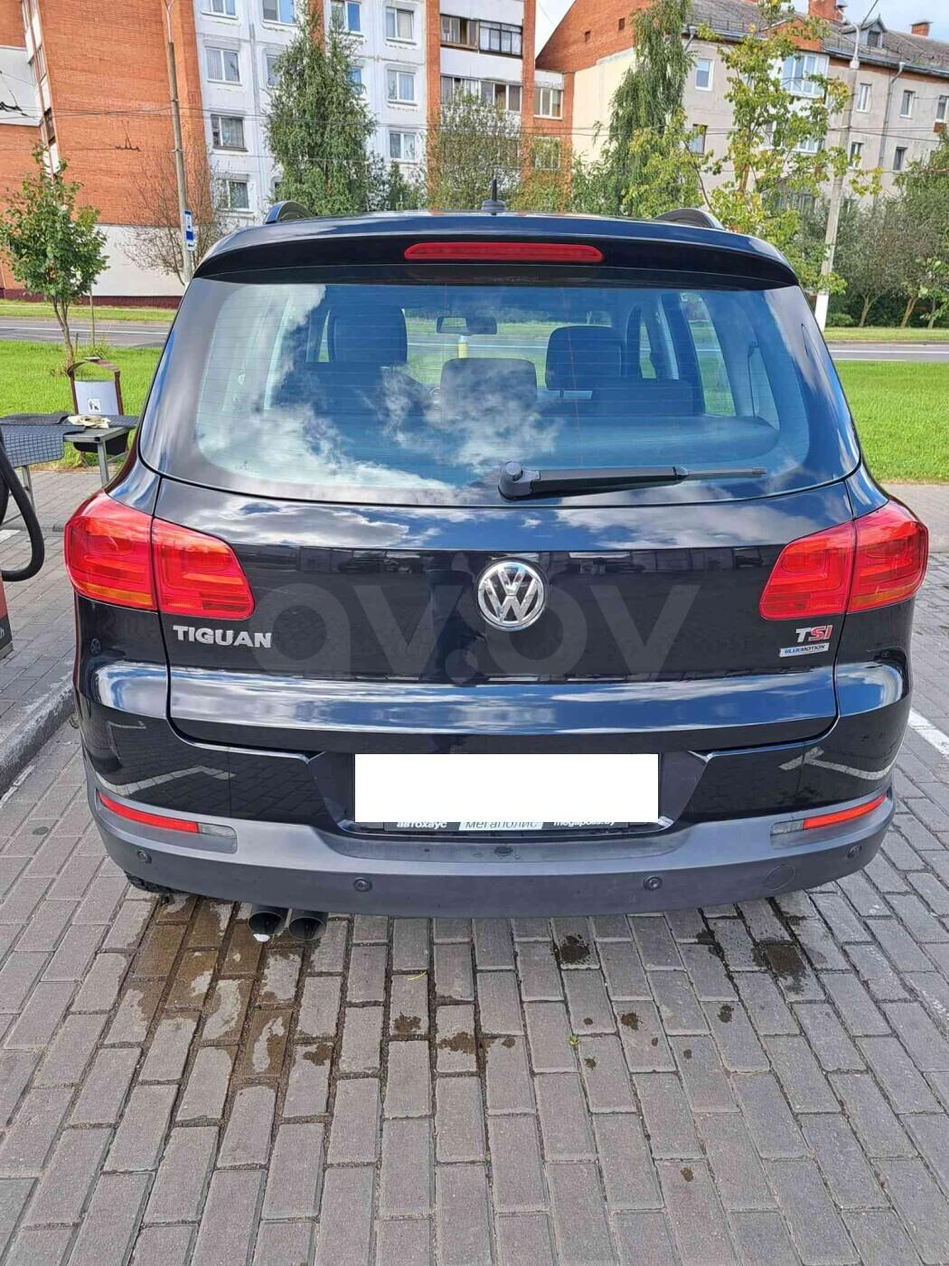Tiguan_2011-2018: (61, 199, 916, 921)
